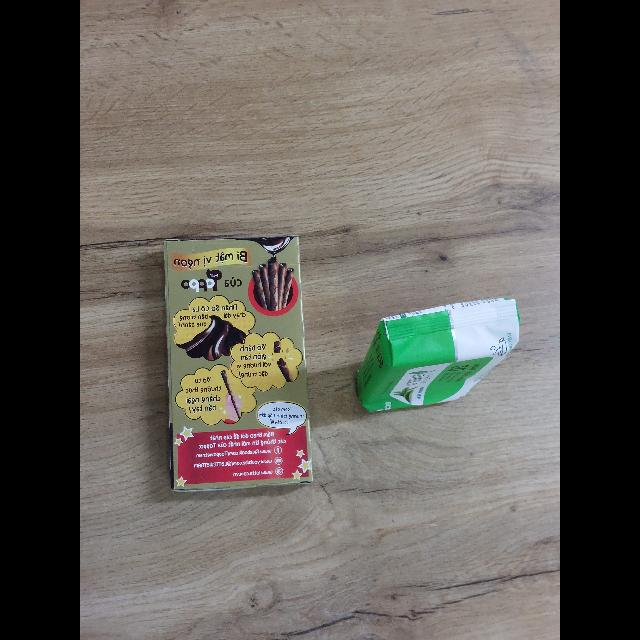banh_toppo_socola: (162, 234, 313, 495)
khan_giay: (355, 298, 521, 416)
